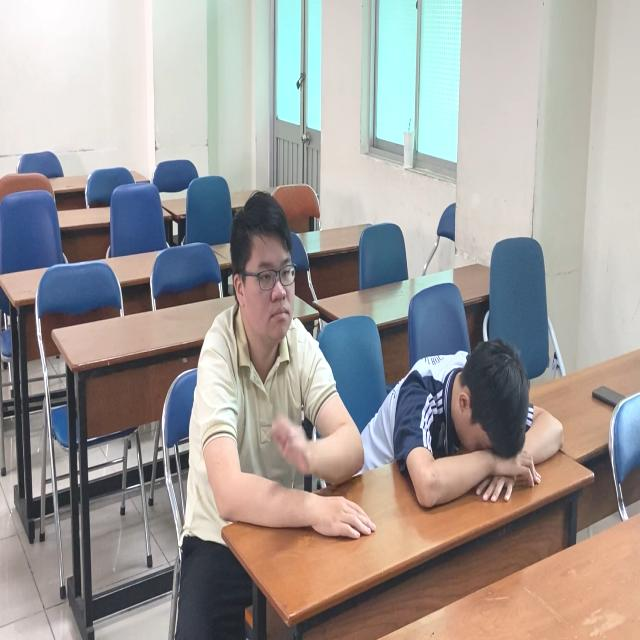sleep: (366, 324, 573, 508)
